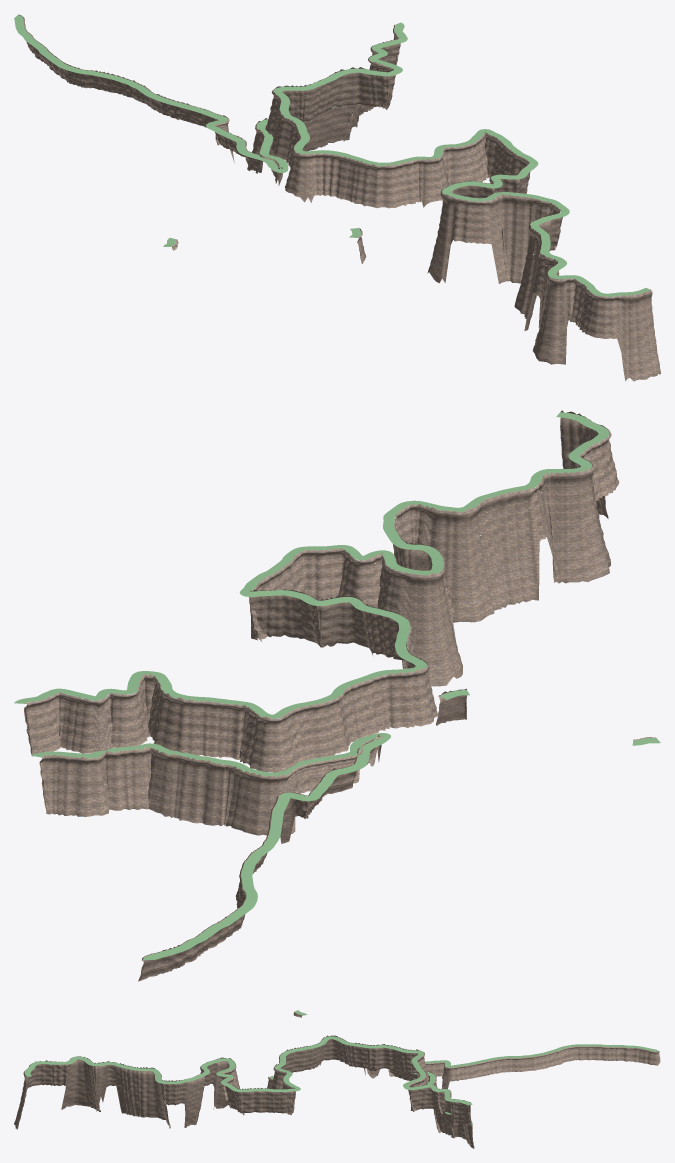
The model's file is CliffWall_plateau_B32.glb.
3 renders of one model, top to bottom at view 1: azimuth 30°, elevation 25°; view 2: azimuth 150°, elevation 25°; view 3: azimuth 270°, elevation 25°, orthographic. The views are drawn at different scales.
Parts seen in each view (by area): view 1: CliffWall_plateau_B32-rock0, CliffWall_plateau_B32-lip0, CliffWall_plateau_B32-rock1, CliffWall_plateau_B32-lip1; view 2: CliffWall_plateau_B32-rock0, CliffWall_plateau_B32-rock1, CliffWall_plateau_B32-lip0, CliffWall_plateau_B32-lip1; view 3: CliffWall_plateau_B32-rock0, CliffWall_plateau_B32-rock1, CliffWall_plateau_B32-lip0, CliffWall_plateau_B32-lip1.
Boxes of the visible parts, <box> form: CliffWall_plateau_B32-rock0: <box>265,25,660,381</box>; CliffWall_plateau_B32-lip0: <box>273,22,649,296</box>; CliffWall_plateau_B32-rock1: <box>18,14,374,186</box>; CliffWall_plateau_B32-lip1: <box>14,15,336,172</box>; CliffWall_plateau_B32-rock0: <box>24,410,619,772</box>; CliffWall_plateau_B32-rock1: <box>39,735,382,981</box>; CliffWall_plateau_B32-lip0: <box>14,412,609,718</box>; CliffWall_plateau_B32-lip1: <box>31,733,390,959</box>; CliffWall_plateau_B32-rock0: <box>14,1035,471,1129</box>; CliffWall_plateau_B32-rock1: <box>364,1045,660,1148</box>; CliffWall_plateau_B32-lip0: <box>24,1036,472,1104</box>; CliffWall_plateau_B32-lip1: <box>410,1044,658,1125</box>.
Size of the model in its own units: 1770 by 385 by 4043.
Materials: 4 (1 with a texture image).
